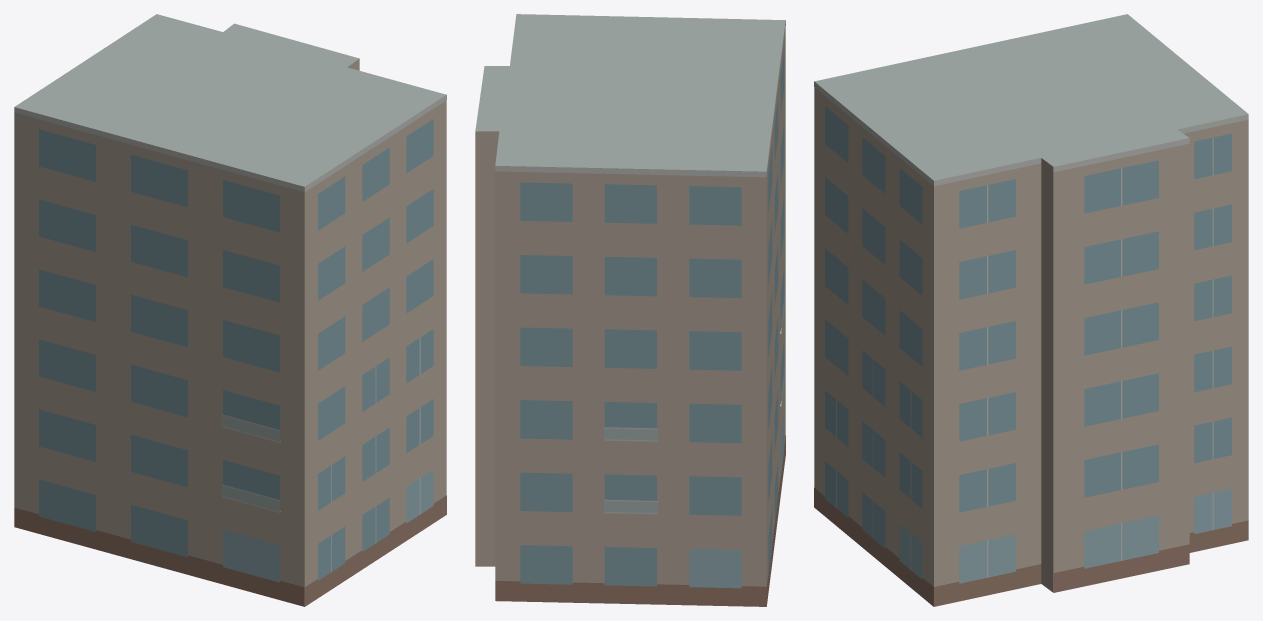
File: survey-upis-32912536.glb
3 views of the same model, side by side, from view 1: azimuth 30°, elevation 25°; view 2: azimuth 150°, elevation 25°; view 3: azimuth 270°, elevation 25° (orthographic). The views are drawn at different scales.
Parts seen in each view (by area): view 1: survey-upis-32912536.tmp; view 2: survey-upis-32912536.tmp; view 3: survey-upis-32912536.tmp.
Part boxes in pixels (x1,y1,x2,y2): survey-upis-32912536.tmp: (14, 14, 446, 606); survey-upis-32912536.tmp: (475, 14, 785, 606); survey-upis-32912536.tmp: (814, 14, 1248, 606).
Bounding box in the file's own units: 15.84 × 18.85 × 17.43.
